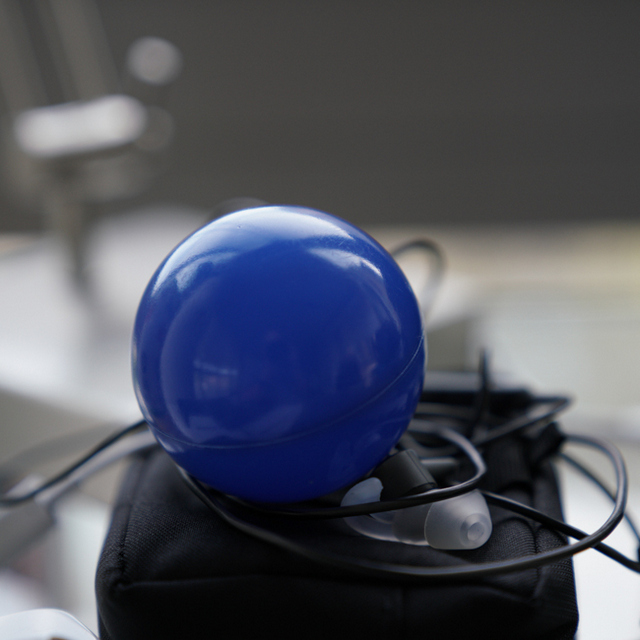Ball: (130, 205, 423, 502)
